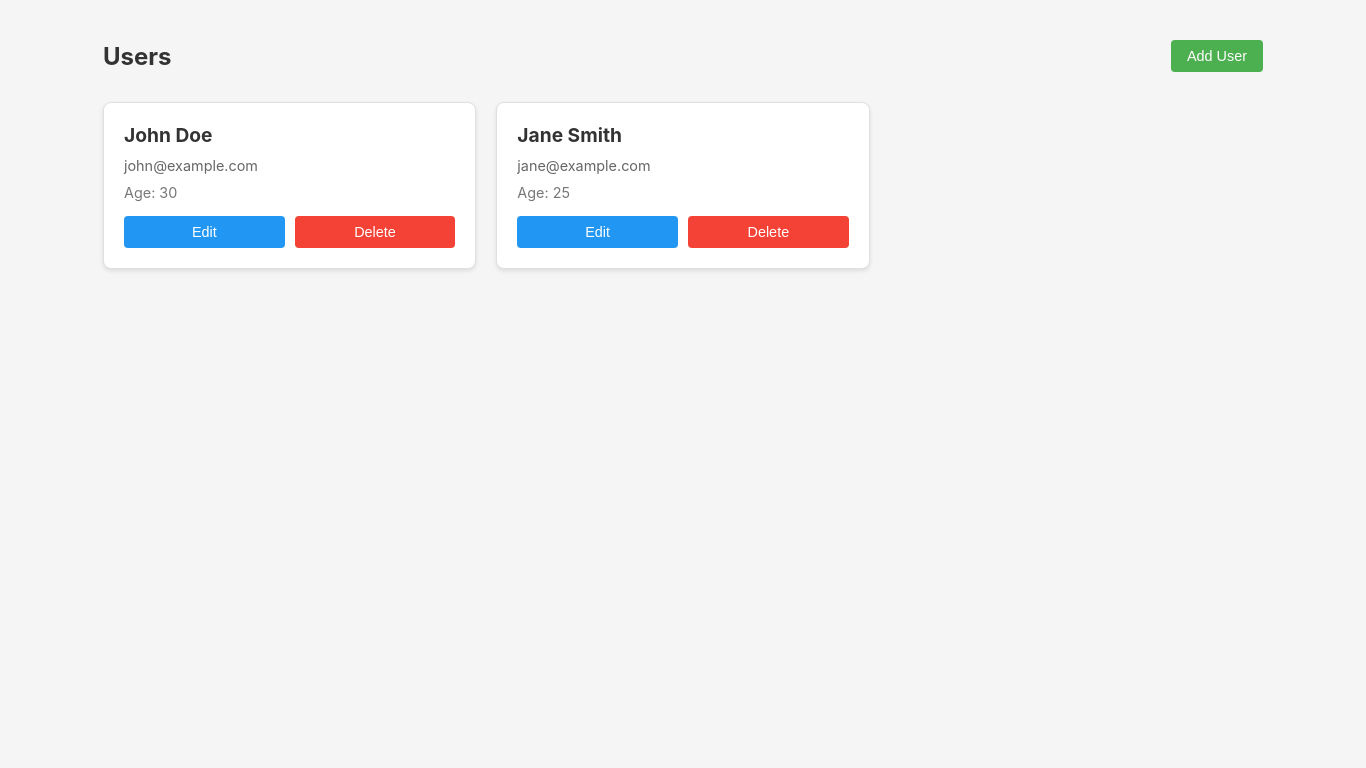
UsersPage Component › should show form when add user button clicked
The image size is (1366, 768).
Expected: the heading "John Doe" is shown, [124,123,212,147]
Click the button "Add User".
click(1217, 56)  # box [1171,40,1263,72]
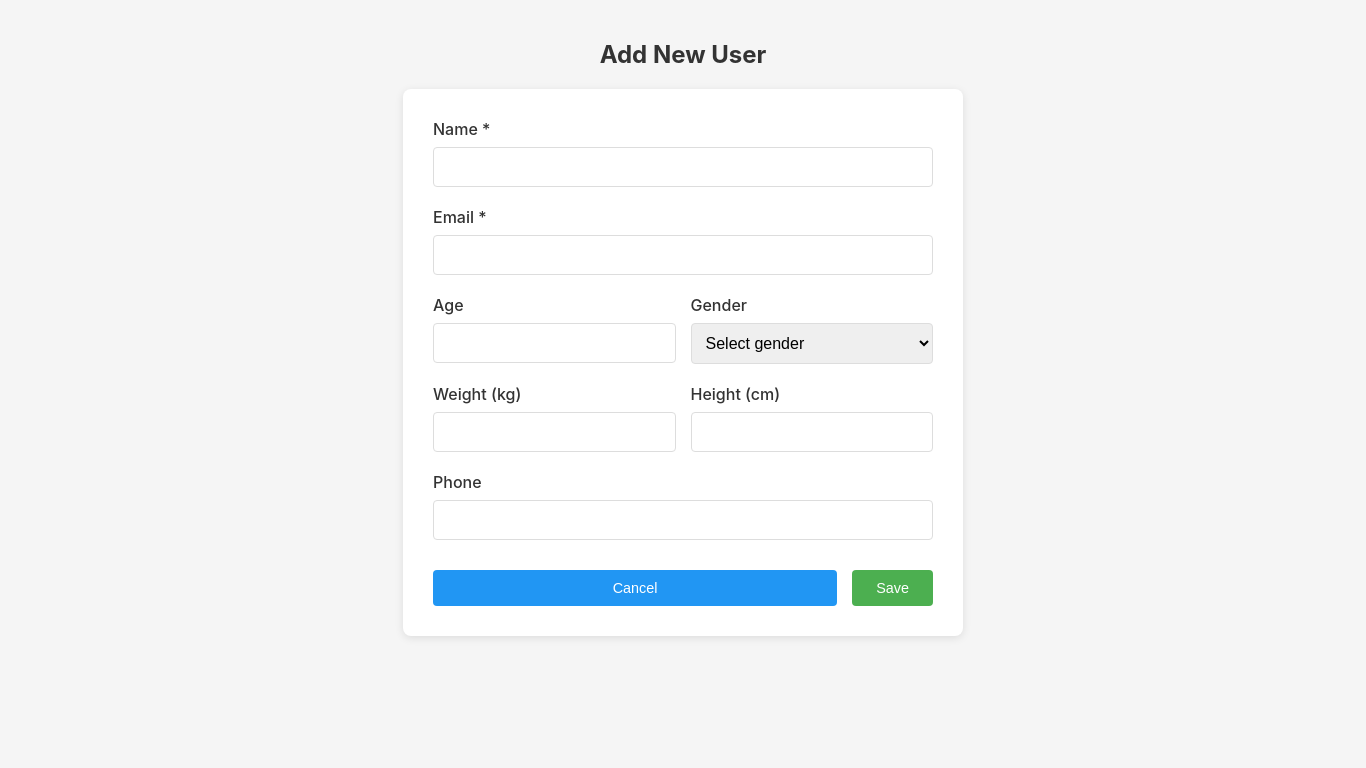
Result: the field labelled "Name *" is shown at [433,147,933,187]
Result: the field labelled "Email *" is shown at [433,235,933,275]
